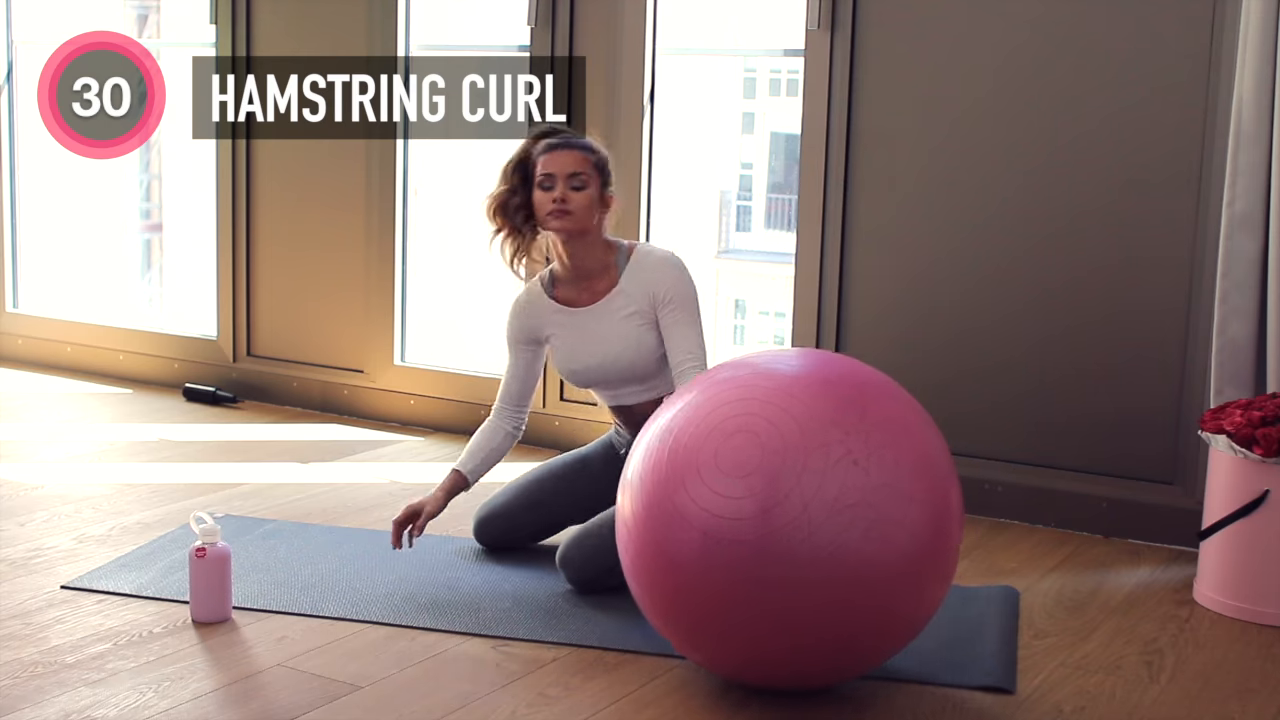yogaball: (608, 344, 972, 703)
